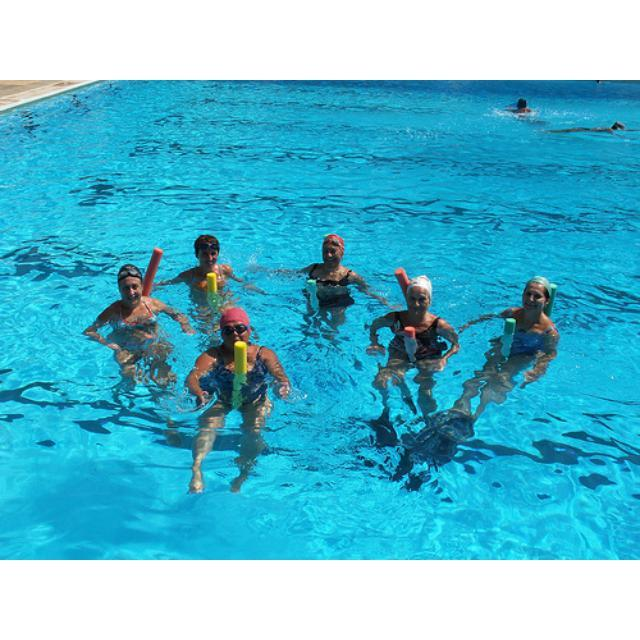human: (191, 308, 285, 496), (463, 276, 564, 415), (369, 272, 456, 410), (86, 266, 194, 377), (303, 233, 355, 323), (180, 234, 238, 303)
